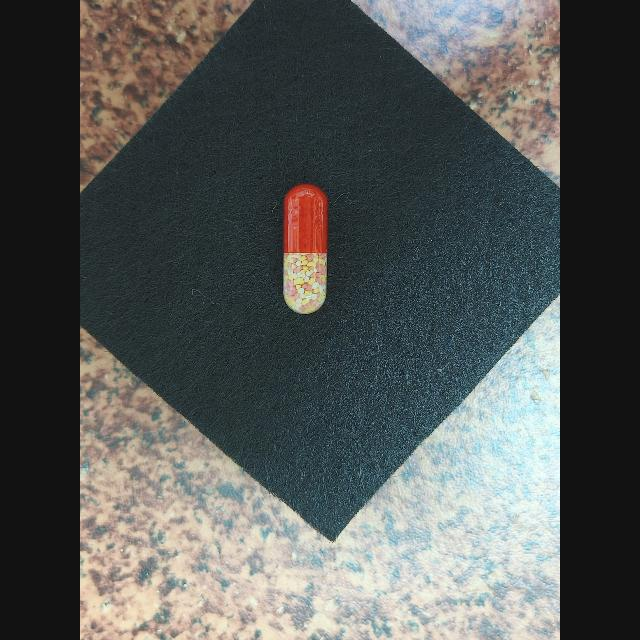Intact Capsule: (283, 184, 328, 314)
